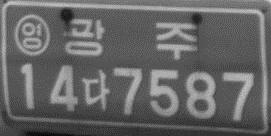1: (13, 62, 45, 110)
4: (48, 64, 78, 113)
5: (147, 68, 180, 118)
7: (222, 71, 254, 121), (112, 66, 143, 116)
8: (184, 71, 217, 120)
광주_D: (63, 16, 198, 60)
다: (81, 69, 111, 111)
영: (13, 13, 50, 56)
